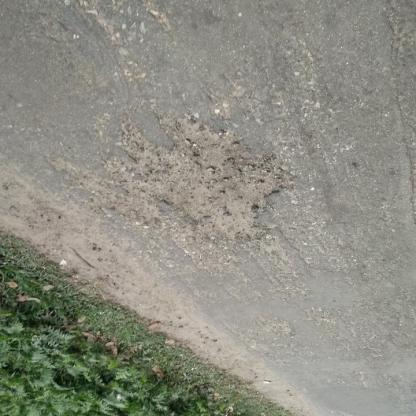pothole: (142, 125, 288, 247)
